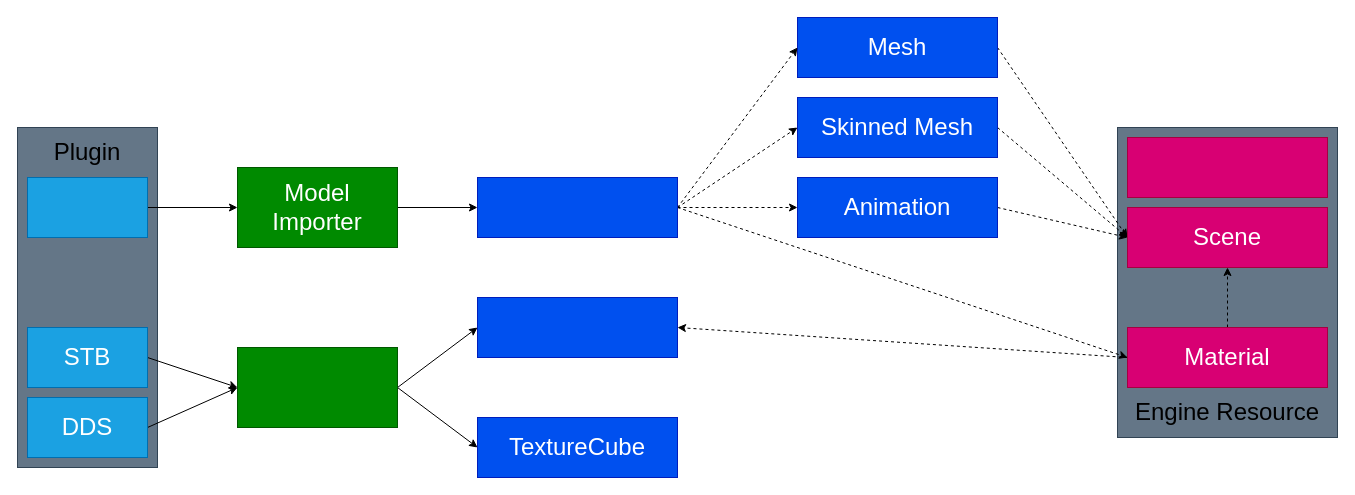
Image size: 1355x495. Some labels were removed from this diagram. The centre of each missing label's shape, as x and y in pixels:
"Assimp" belongs at (x=87, y=207).
"Prefab" belongs at (x=577, y=207).
"Render Pipeline" belongs at (x=1227, y=167).
"Texture Importer" belongs at (x=317, y=387).
"Texture2D" belongs at (x=577, y=327).
